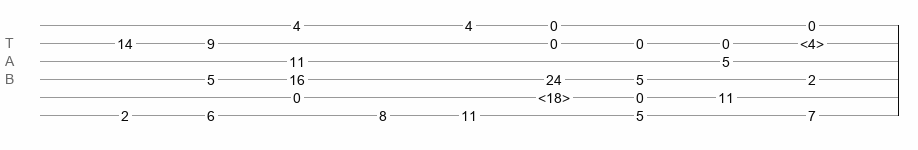0: (293, 90, 301, 100), (550, 18, 558, 28), (550, 36, 558, 46), (636, 36, 644, 46), (636, 90, 644, 100), (722, 36, 730, 46), (808, 18, 816, 28)
11: (289, 54, 305, 64), (461, 108, 477, 118), (718, 90, 734, 100)
14: (117, 36, 133, 46)
16: (289, 72, 305, 82)
2: (121, 108, 129, 118), (808, 72, 816, 82)
24: (546, 72, 562, 82)
4: (293, 18, 301, 28), (465, 18, 473, 28)
5: (207, 72, 215, 82), (636, 108, 644, 118), (636, 72, 644, 82), (722, 54, 730, 64)
6: (207, 108, 215, 118)
7: (808, 108, 816, 118)
8: (379, 108, 387, 118)
9: (207, 36, 215, 46)
harmonic: (538, 90, 570, 100), (800, 36, 824, 46)
